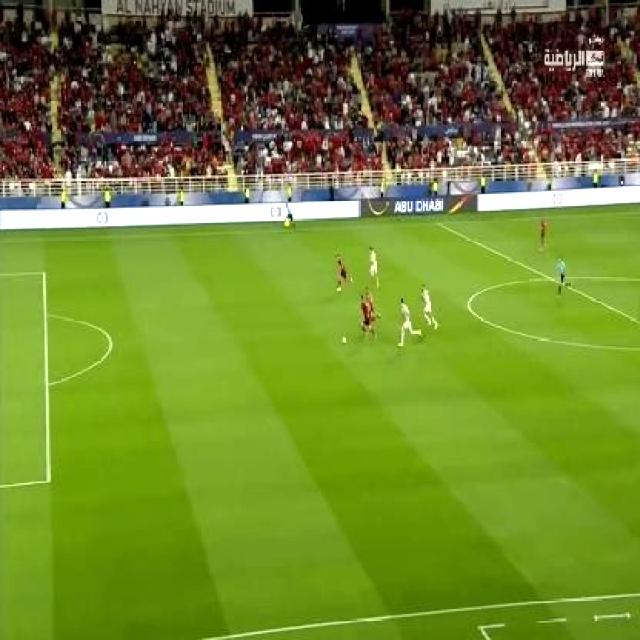bigarea_bottom_inner: (38, 468, 57, 490)
bigarea_top_inner: (37, 265, 51, 280)
bottom_arc_area_intersection: (38, 374, 56, 394)
halfcircle_top: (540, 268, 554, 284)
midline_top_intersection: (430, 214, 444, 228)
top_arc_area_intersection: (37, 304, 52, 322)
